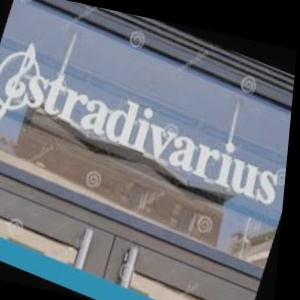stradivarius: (285, 72, 295, 120)
